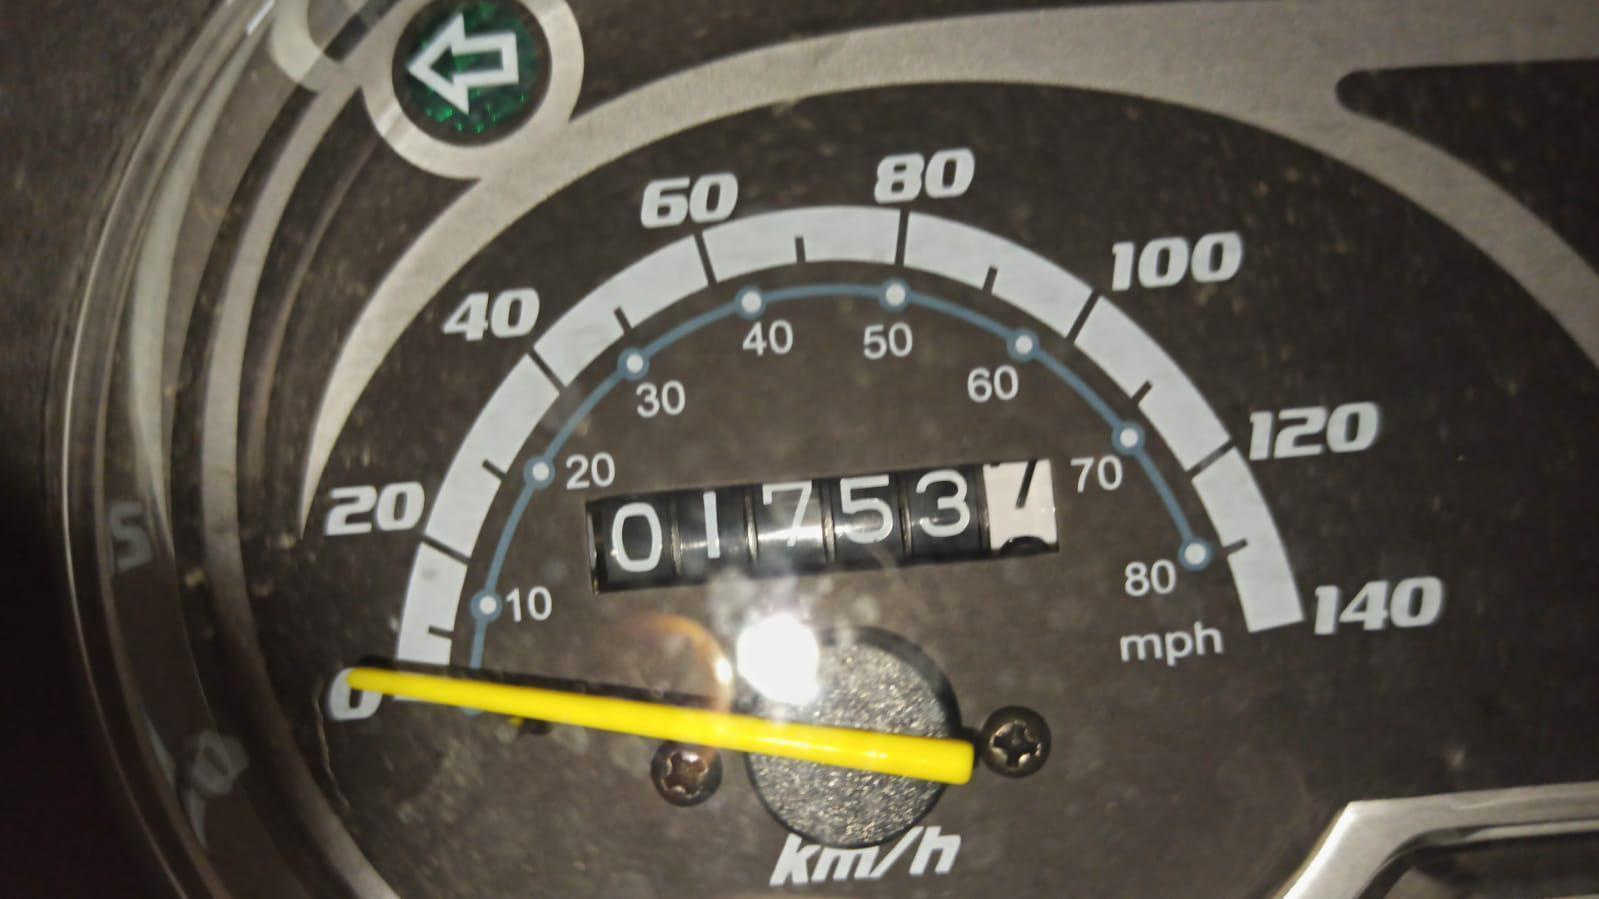0: (605, 497, 668, 572), (589, 451, 617, 486)
1: (689, 471, 737, 571)
2: (566, 451, 591, 496)
3: (912, 465, 973, 544)
5: (832, 465, 896, 552)
7: (984, 452, 1054, 522), (756, 476, 817, 555)
odometer: (573, 445, 1075, 599)
